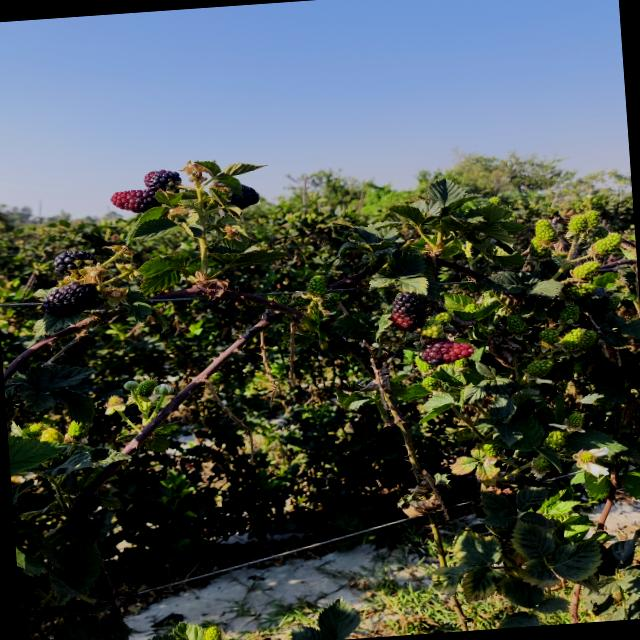maduro: (42, 282, 97, 314), (53, 250, 97, 275)
marron: (420, 338, 474, 365), (391, 292, 425, 330), (111, 189, 160, 212), (144, 169, 181, 190)
verde: (560, 328, 596, 350), (590, 232, 621, 255), (571, 260, 600, 280), (535, 219, 556, 242), (524, 359, 552, 376), (545, 430, 565, 451), (568, 213, 587, 233), (560, 304, 580, 323), (506, 315, 527, 333), (539, 328, 559, 346), (585, 210, 599, 228)
